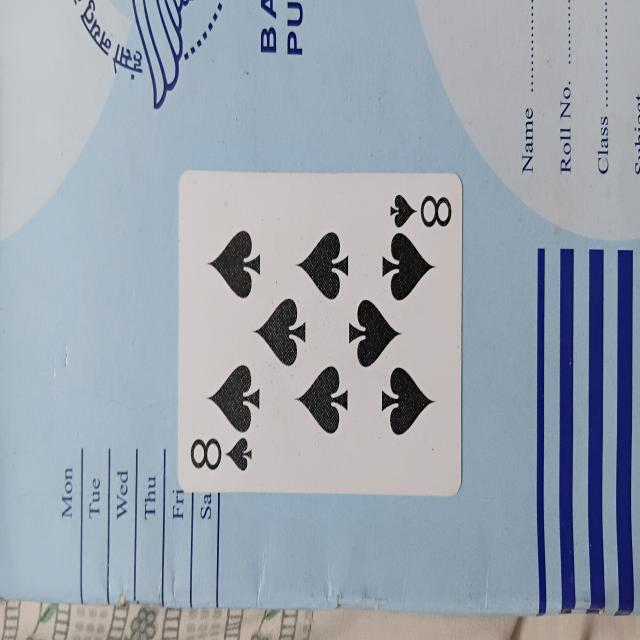8S: (175, 164, 465, 508)
